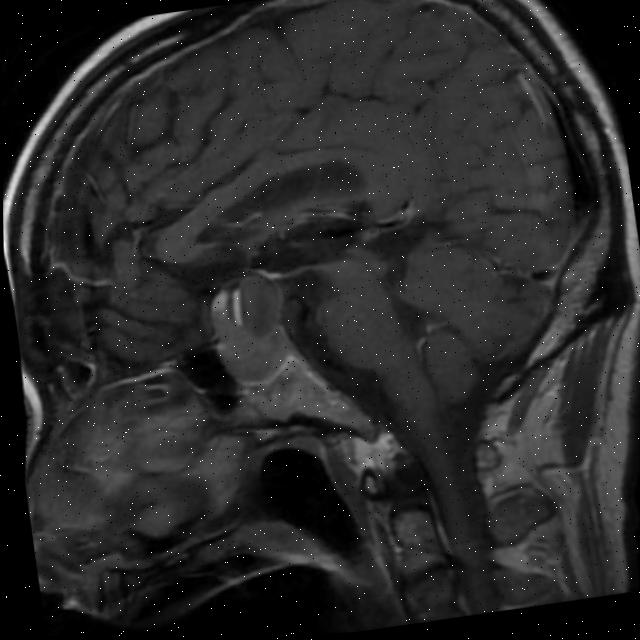Pituitary: (207, 268, 295, 390)
